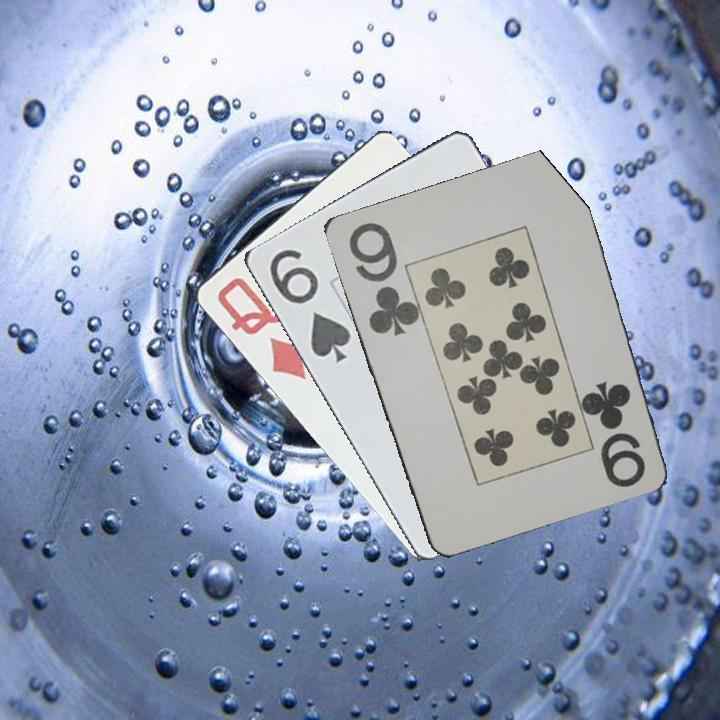6s: (265, 245, 353, 367)
9c: (344, 218, 419, 339), (582, 377, 648, 491)
Qd: (213, 273, 308, 383)
